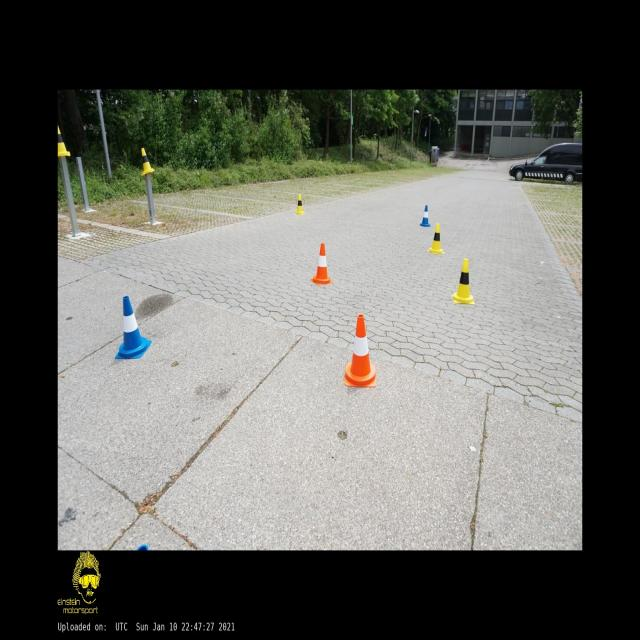blue_cone: (115, 296, 152, 359), (420, 205, 430, 227)
orange_cone: (345, 314, 376, 387), (311, 243, 331, 284)
yellow_cone: (452, 259, 474, 304), (428, 224, 444, 254), (140, 148, 155, 175), (58, 125, 70, 157), (295, 194, 305, 214)
